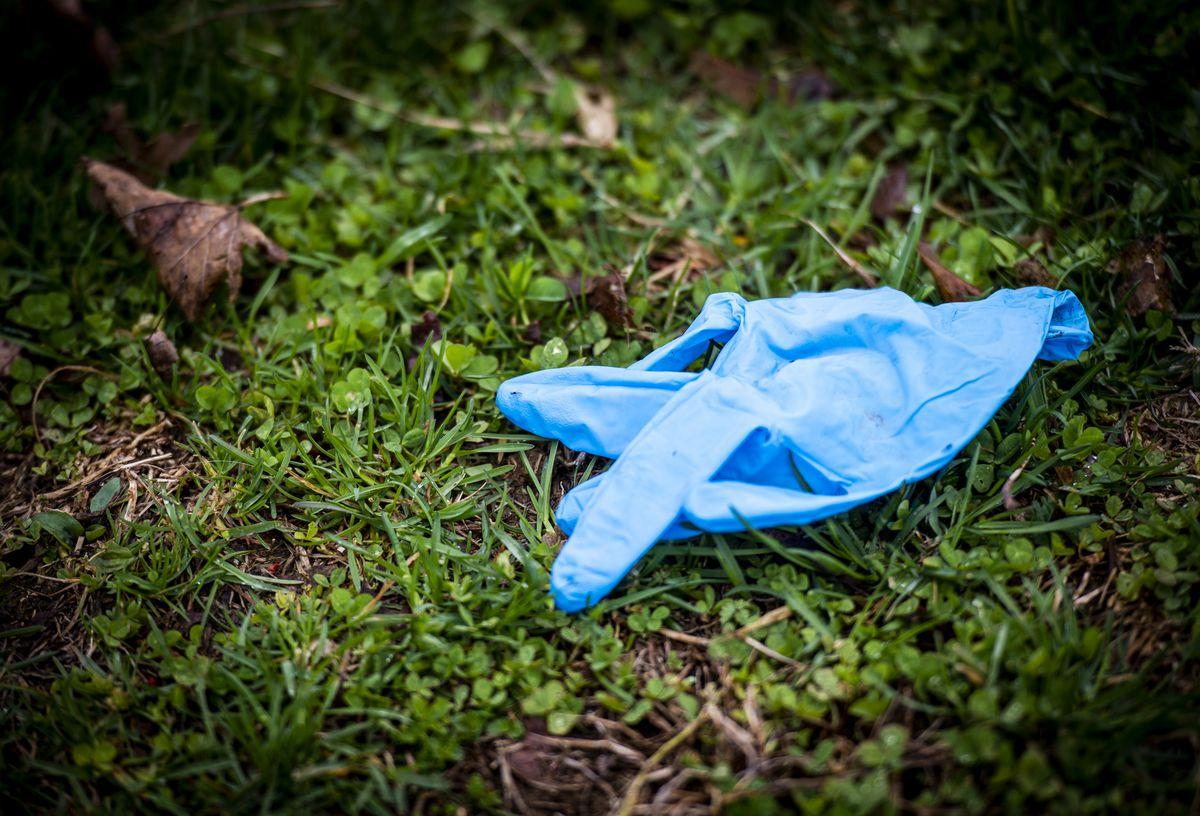gloves: (477, 280, 1101, 621)
